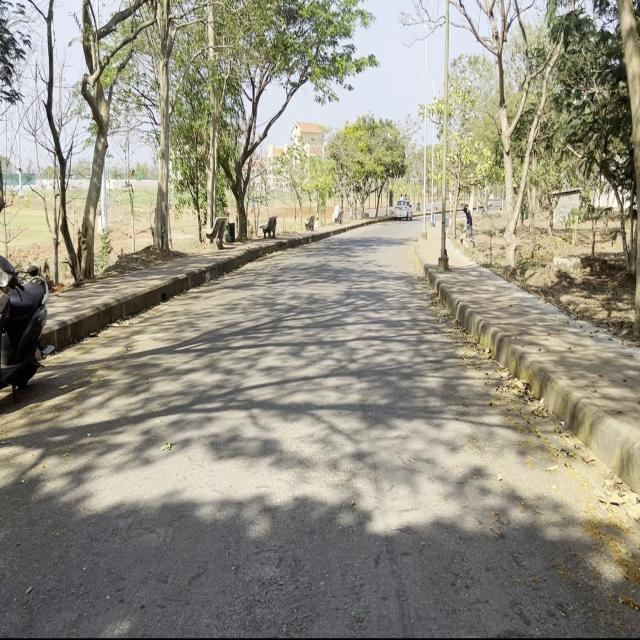Object: (0, 260, 53, 409)
Road: (2, 224, 634, 631)
